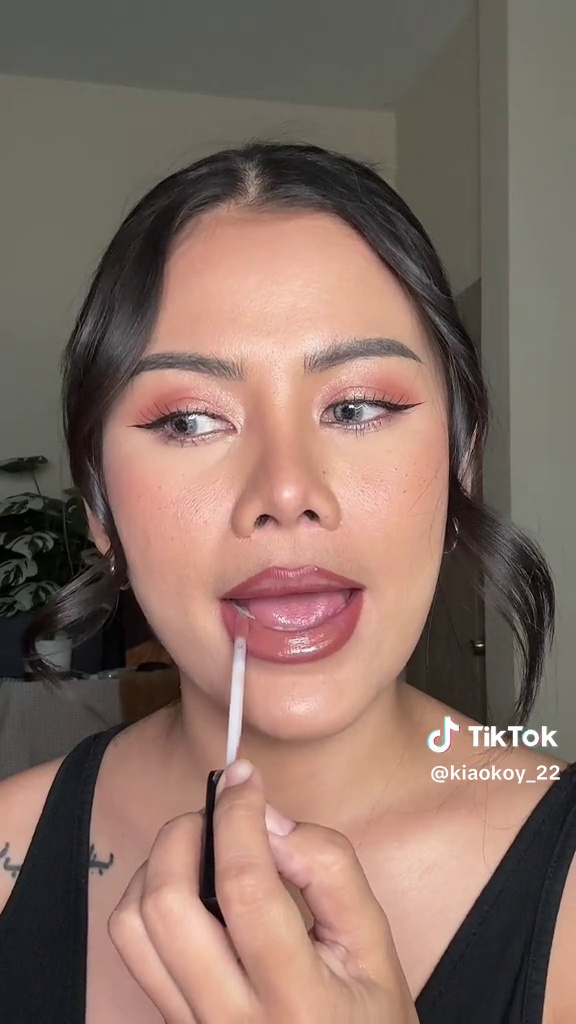train' :'yolo_data/train/images',: (193, 606, 263, 922)
